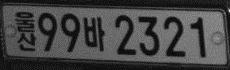1: (188, 16, 211, 57)
2: (162, 15, 186, 57), (114, 14, 137, 55)
3: (138, 16, 160, 56)
9: (37, 11, 58, 52), (59, 12, 80, 52)
바: (82, 16, 105, 51)
울산_V: (14, 10, 36, 51)
